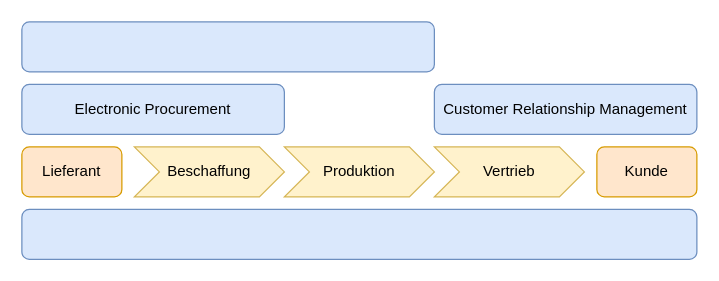
Some shapes in this 719 by 281 pixel diagram are drawn without their labels. The shapes that lost their labels are listed below. From the top down, each one's box as (x1, y1, x2, y2) in pixels, then its label:
(21, 21, 434, 72): Supply Chain Management
(21, 208, 697, 259): Enterprise Resource Planning System
